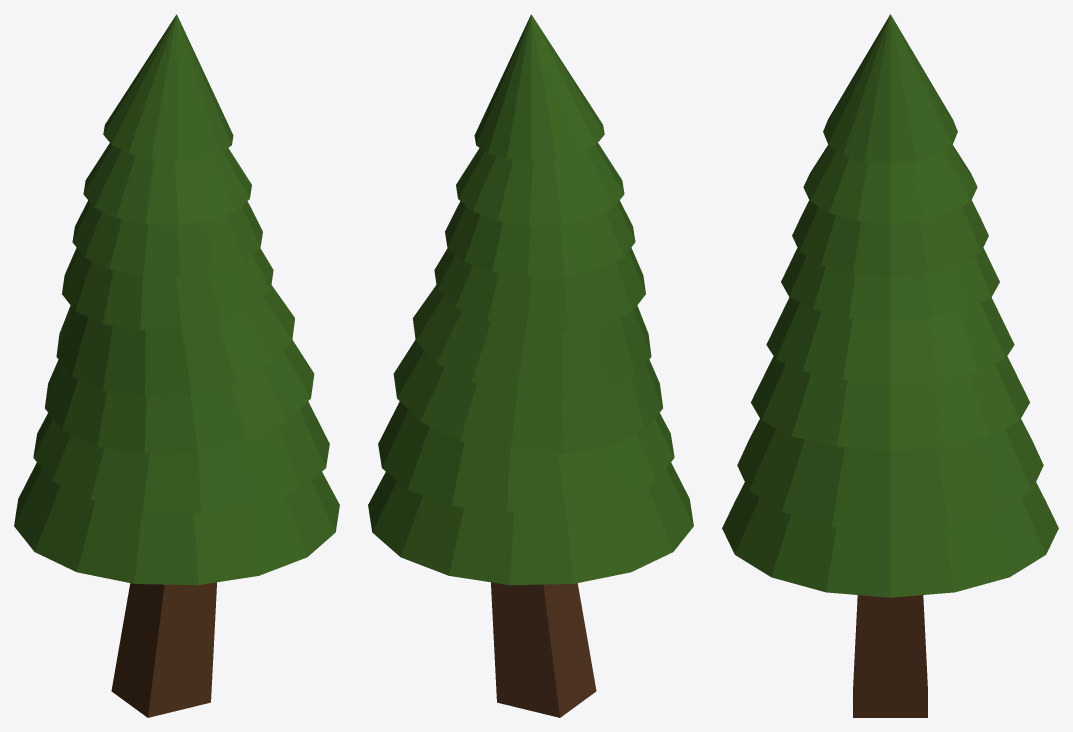
Rendered from Pine_Tree_2.fbx.
3 renders of one model, left to right at view 1: azimuth 30°, elevation 25°; view 2: azimuth 150°, elevation 25°; view 3: azimuth 270°, elevation 25°, orthographic. The views are drawn at different scales.
Visible parts, largest first — view 1: Circle.006, Circle.005, Circle.004, Circle.003, Cube, Circle.002, Cone, Circle, Circle.001; view 2: Circle.006, Circle.005, Circle.004, Circle.003, Cube, Circle.002, Cone, Circle, Circle.001; view 3: Circle.005, Circle.006, Circle.004, Circle.003, Cone, Circle.001, Circle, Circle.002, Cube.
Part boxes in pixels (bbox=[...]): Circle.006: bbox=[14, 462, 339, 585]; Circle.005: bbox=[33, 401, 329, 512]; Circle.004: bbox=[45, 340, 314, 453]; Circle.003: bbox=[56, 285, 294, 396]; Cube: bbox=[111, 582, 216, 717]; Circle.002: bbox=[62, 247, 273, 330]; Cone: bbox=[103, 14, 233, 160]; Circle: bbox=[83, 143, 251, 225]; Circle.001: bbox=[72, 200, 262, 277]; Circle.006: bbox=[368, 462, 693, 585]; Circle.005: bbox=[378, 401, 674, 512]; Circle.004: bbox=[393, 340, 662, 453]; Circle.003: bbox=[413, 285, 651, 396]; Cube: bbox=[491, 582, 596, 717]; Circle.002: bbox=[434, 247, 645, 330]; Cone: bbox=[474, 14, 604, 160]; Circle: bbox=[456, 143, 624, 225]; Circle.001: bbox=[445, 200, 635, 277]; Circle.005: bbox=[737, 419, 1043, 531]; Circle.006: bbox=[722, 482, 1058, 597]; Circle.004: bbox=[751, 356, 1029, 450]; Circle.003: bbox=[766, 297, 1014, 382]; Cone: bbox=[823, 14, 957, 164]; Circle.001: bbox=[792, 200, 988, 277]; Circle: bbox=[803, 144, 977, 223]; Circle.002: bbox=[781, 248, 999, 321]; Cube: bbox=[853, 595, 927, 717].
Size of the model in its own units: 302 by 687 by 302.
